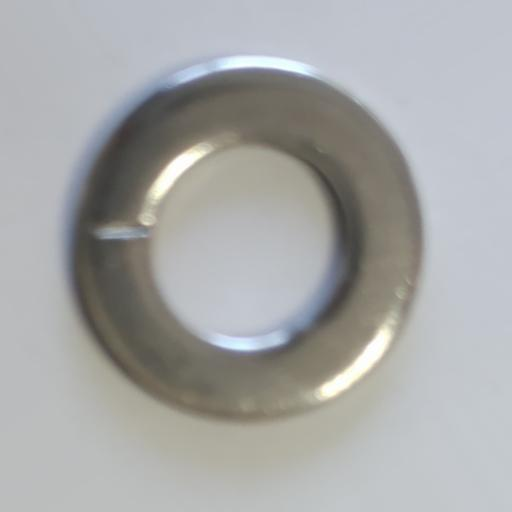scratch: (91, 222, 150, 241)
